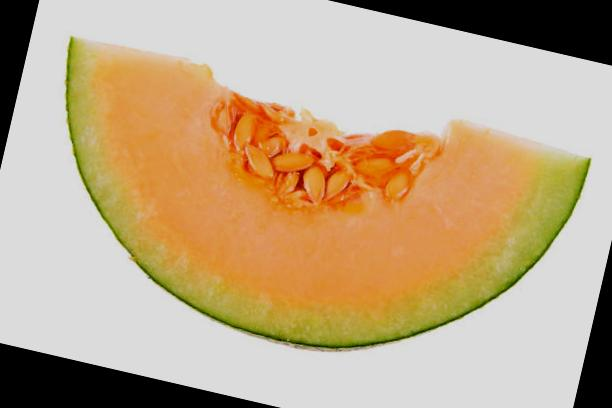Melon Ripe: (11, 28, 594, 403)
